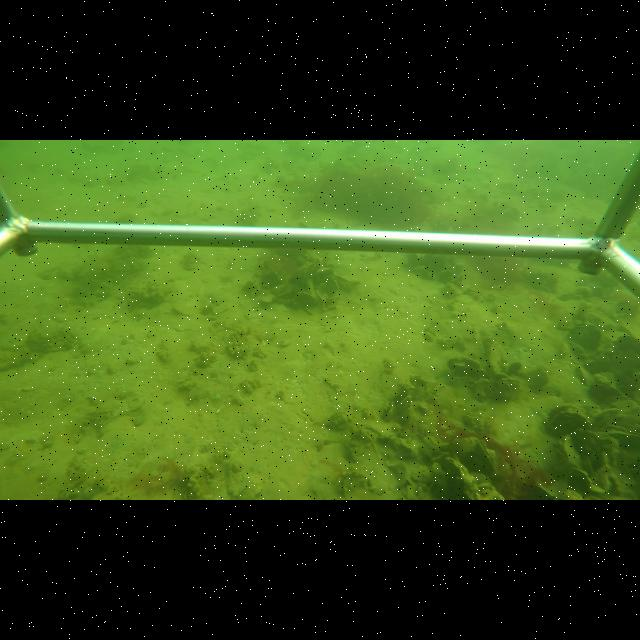Oyster-Closed: (446, 436, 501, 480), (569, 427, 621, 468), (549, 409, 593, 436), (566, 467, 595, 489), (294, 291, 319, 308), (306, 280, 320, 301)
Oyster-Open: (379, 398, 395, 421)
